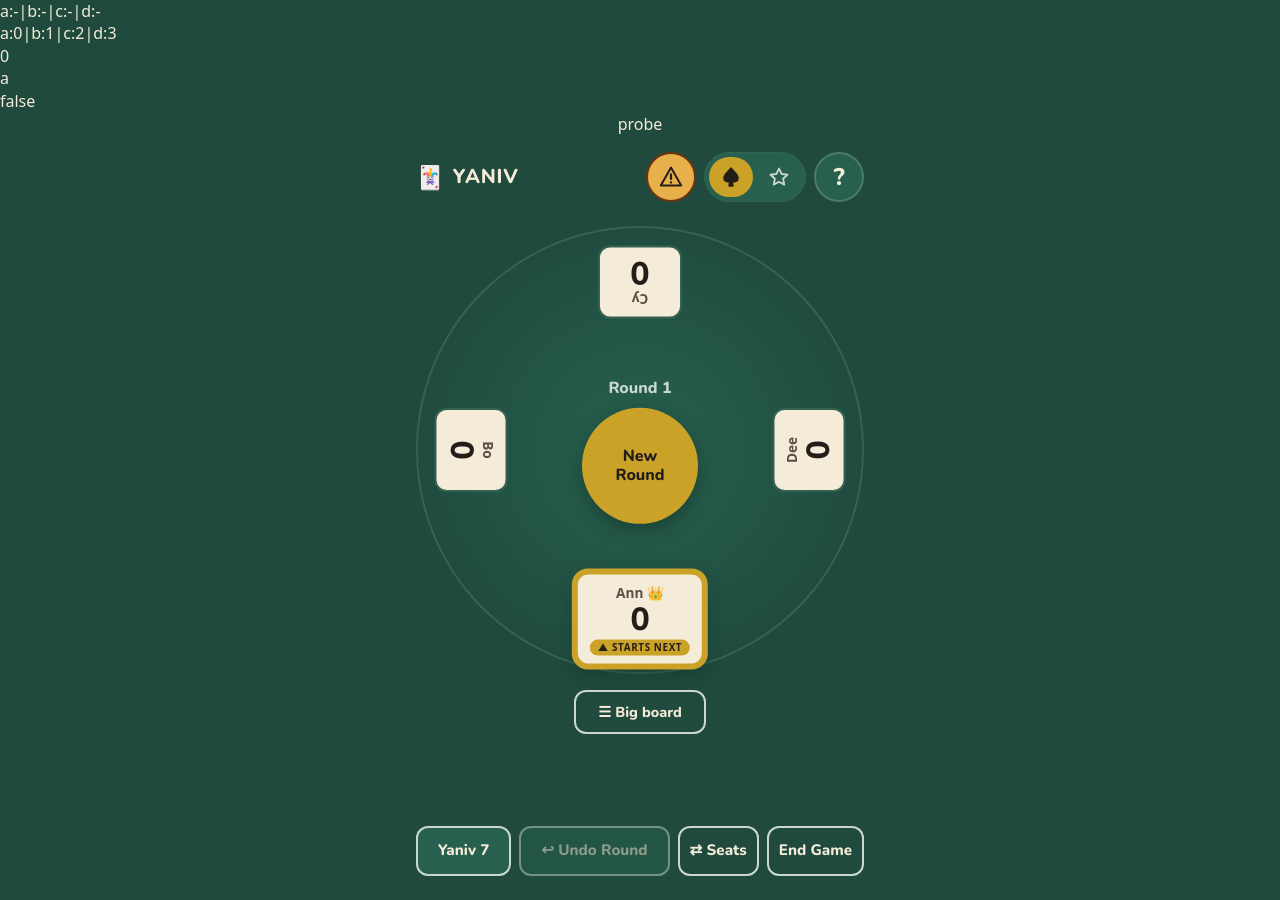
Scenario: the confirmation in front of a removal › says they come off the table when they have played no round yet
The width and height of the screenshot is (1280, 900).
Click the button with aria-label "Rearrange seats" at (718,851), box [678,826,759,876]
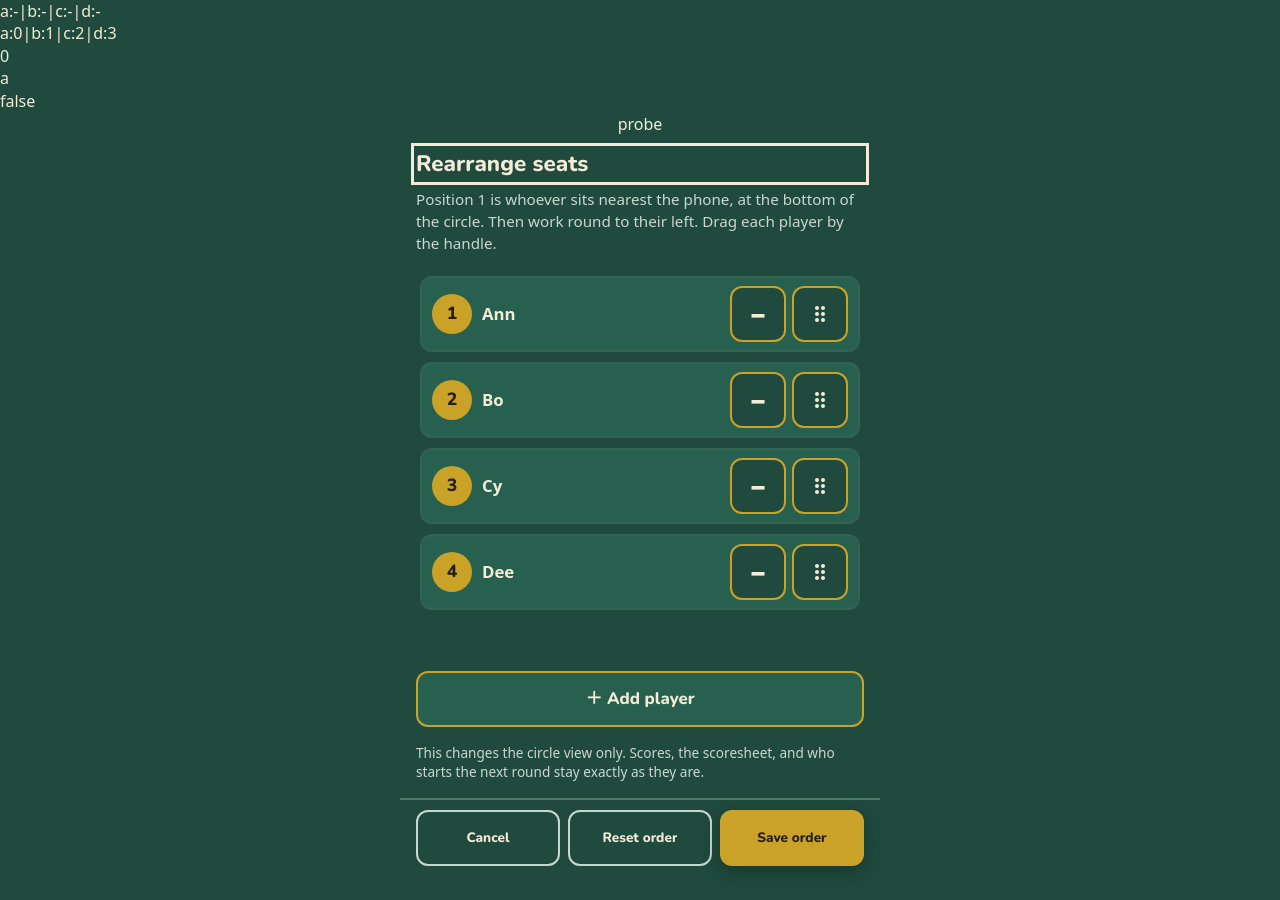
Click the button with test id "remove-b" at (758,400), box [730,372,786,428]
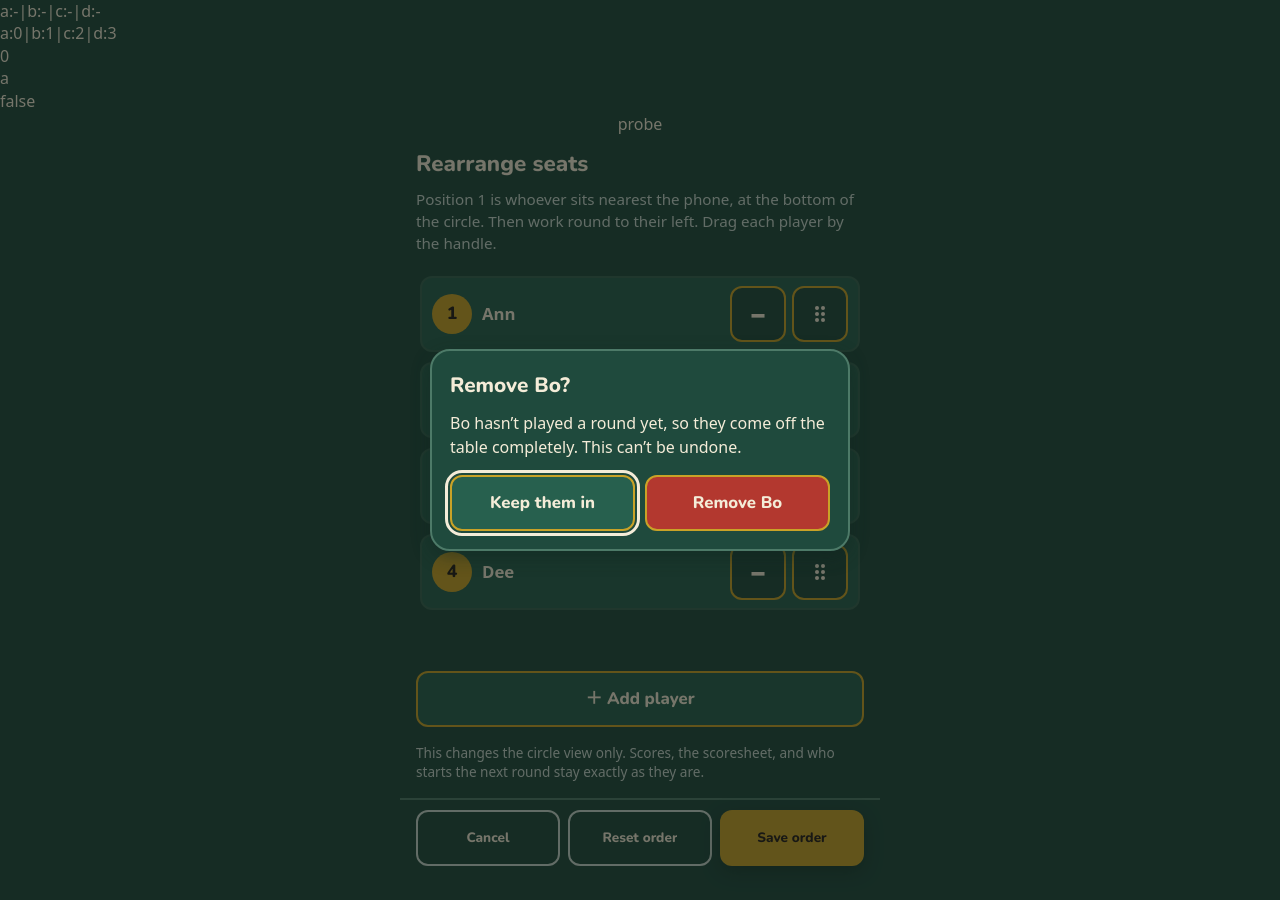
expect the dialog with test id "confirm-remove-player" shows "Bo hasn’t played a round yet": met, box [450,412,825,458]
